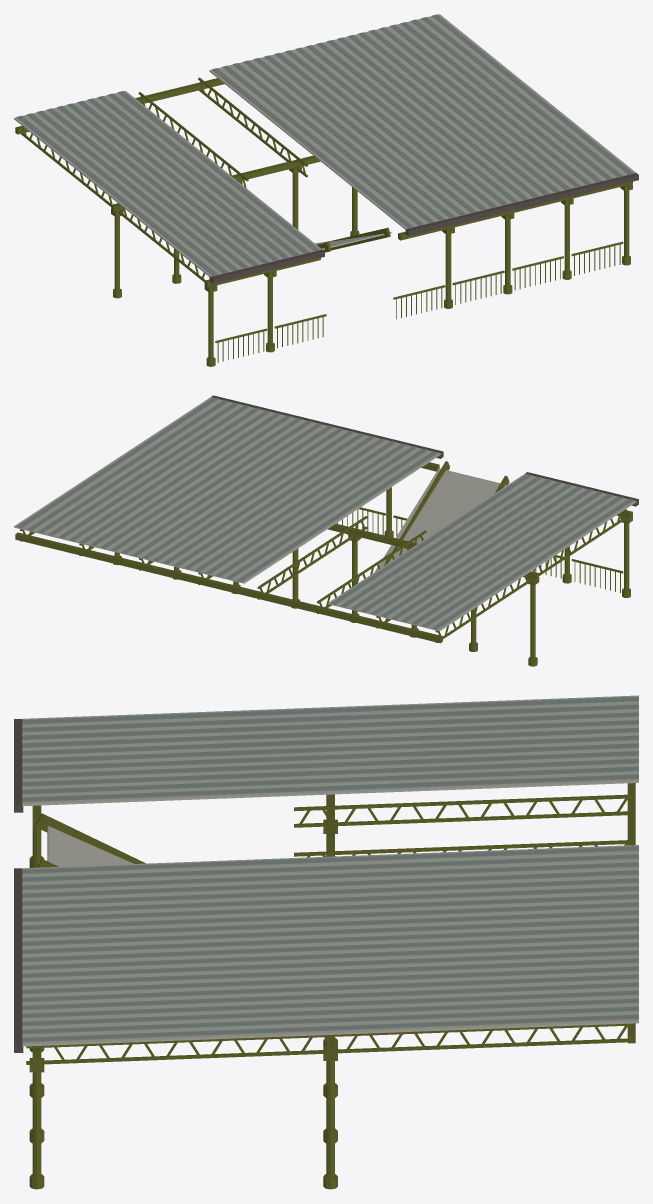
Rendered from SM_MarquesinaAdosada_v2_LOD0.fbx.
3 renders of one model, top to bottom at view 1: azimuth 30°, elevation 25°; view 2: azimuth 150°, elevation 25°; view 3: azimuth 270°, elevation 25°, orthographic. The views are drawn at different scales.
Parts seen in each view (by area): view 1: SM_marquesina_adosada_v2_LOD0; view 2: SM_marquesina_adosada_v2_LOD0; view 3: SM_marquesina_adosada_v2_LOD0.
Boxes of the visible parts, left/top/right/bottom form: SM_marquesina_adosada_v2_LOD0: left=14, top=14, right=638, bottom=366; SM_marquesina_adosada_v2_LOD0: left=14, top=395, right=638, bottom=666; SM_marquesina_adosada_v2_LOD0: left=14, top=695, right=638, bottom=1189.
Size of the model in its own units: 21 by 5.1 by 17.03.
